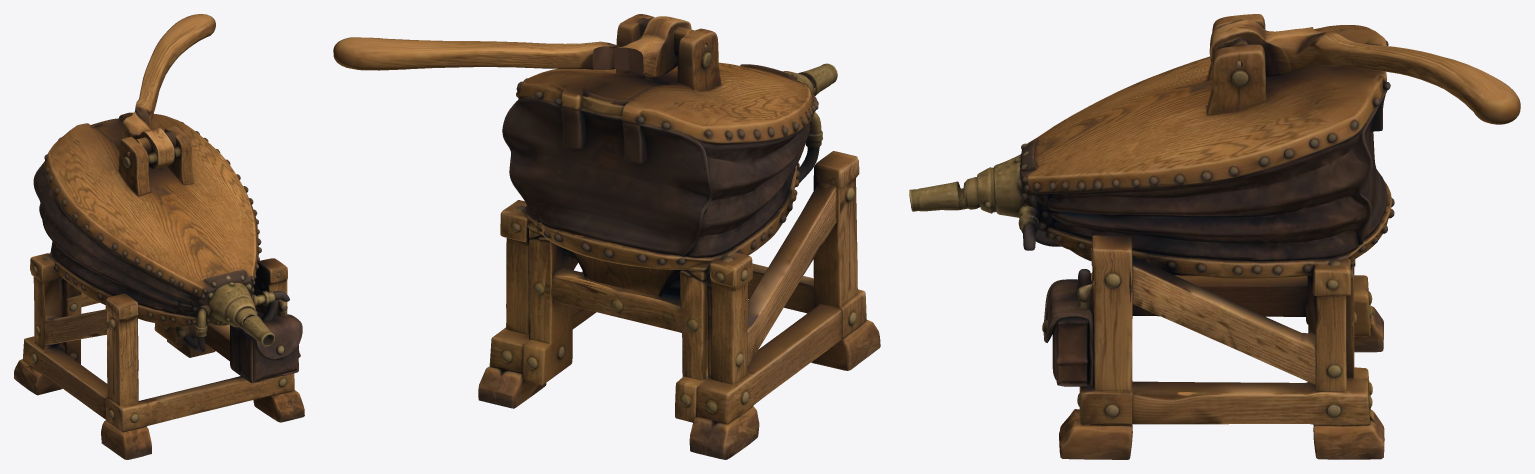
Rendered from glass.glb.
3 views of the same model, side by side, from view 1: azimuth 30°, elevation 25°; view 2: azimuth 150°, elevation 25°; view 3: azimuth 270°, elevation 25° (orthographic). The views are drawn at different scales.
Parts seen in each view (by area): view 1: Hi3D bellows · corrected outer shell; view 2: Hi3D bellows · corrected outer shell; view 3: Hi3D bellows · corrected outer shell.
Boxes of the visible parts, box(x1,y1,x2,y2) form: Hi3D bellows · corrected outer shell: box(14, 14, 304, 459); Hi3D bellows · corrected outer shell: box(333, 14, 880, 459); Hi3D bellows · corrected outer shell: box(909, 14, 1520, 459).
Bounding box in the file's own units: 0.9318 × 1.02 × 1.42.
3 materials, 1 textured.
